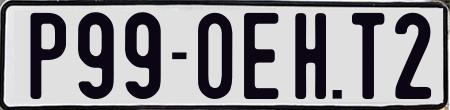0: (198, 10, 234, 101)
2: (394, 12, 433, 102)
9: (124, 10, 165, 100), (75, 11, 113, 104)
E: (242, 11, 278, 99)
H: (293, 13, 328, 99)
P: (30, 12, 67, 100)
T: (352, 12, 387, 98)
